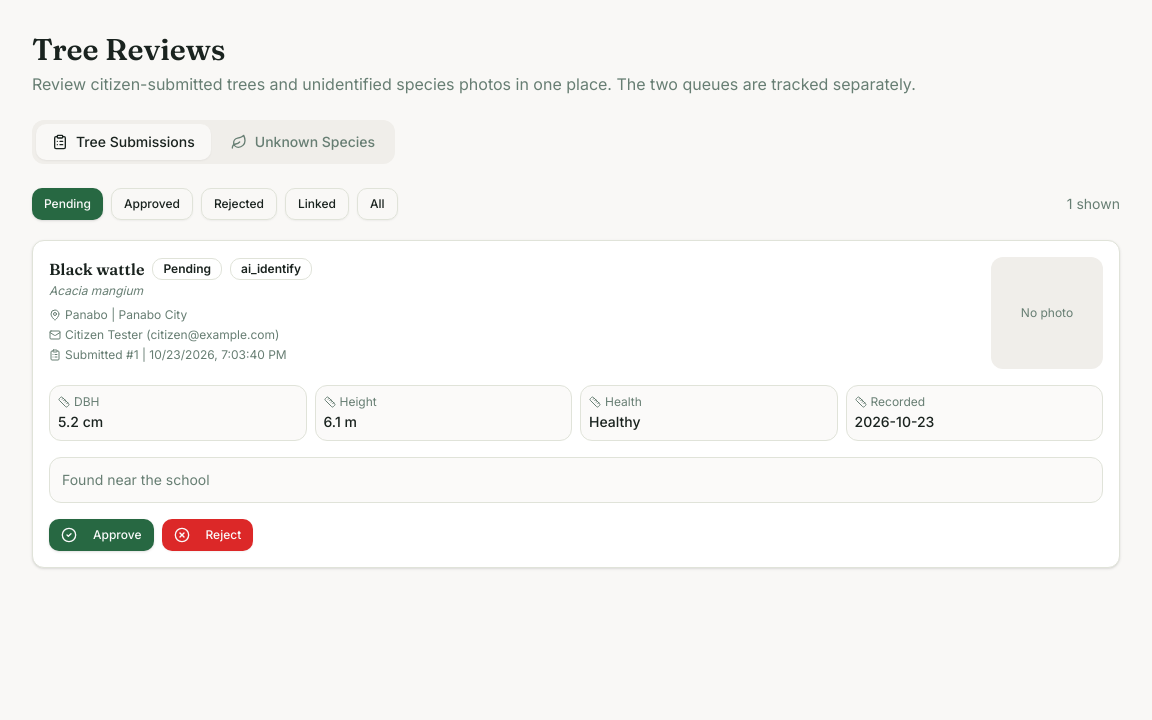
Test: Unknown Species tab (task 5 - preserved functionality) › switching to the tab renders the existing unknown-species review
This screenshot has width=1152, height=720.
expect the heading "Black wattle" is shown: met, box [49, 257, 144, 281]
Step 1. Click the button "Unknown Species" → (303, 142), box [215, 124, 391, 160]
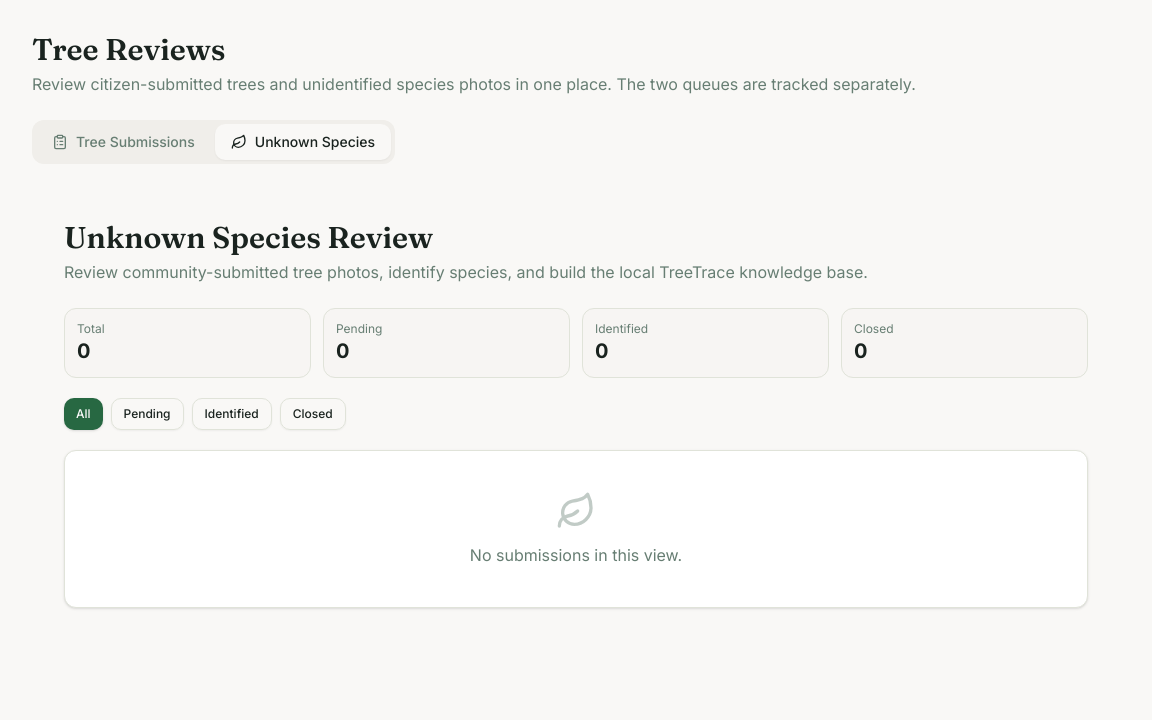
expect the heading "Unknown Species Review" is shown: met, box [64, 219, 433, 256]
